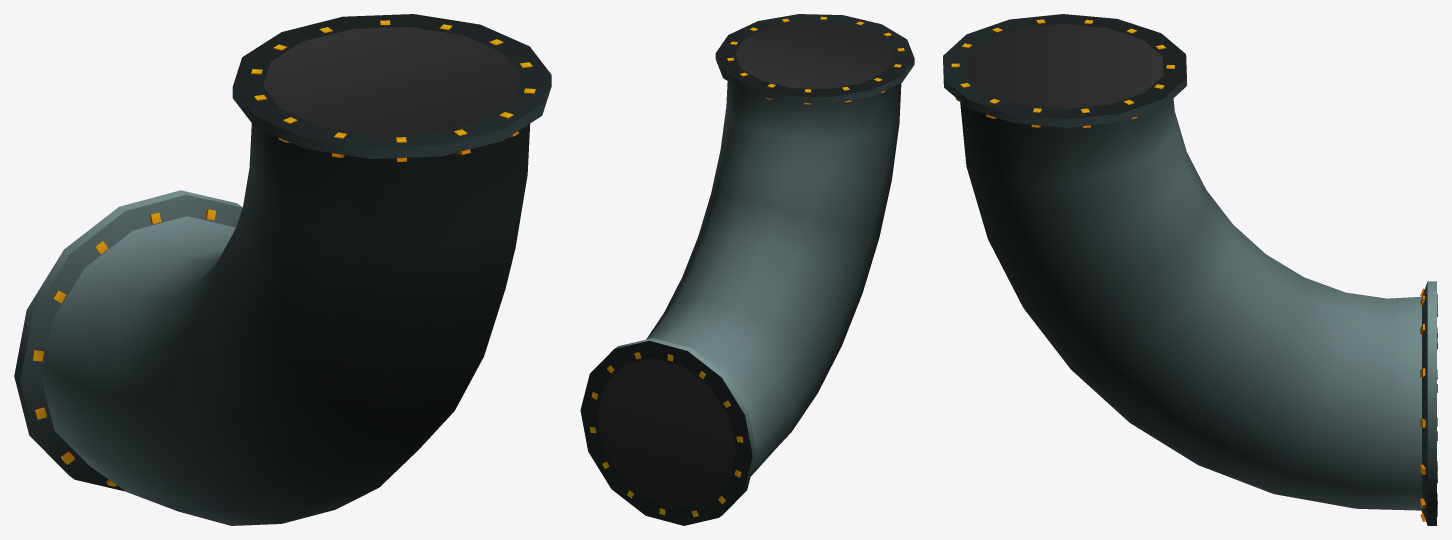
The model's file is Giant_Pipe_2E.fbx.
3 renders of one model, left to right at view 1: azimuth 30°, elevation 25°; view 2: azimuth 150°, elevation 25°; view 3: azimuth 270°, elevation 25°, orthographic. The views are drawn at different scales.
Visible parts, largest first — view 1: Giant_Pipe_2E; view 2: Giant_Pipe_2E; view 3: Giant_Pipe_2E.
Part boxes in pixels (x1=…): Giant_Pipe_2E: x1=14, y1=14, x2=551, y2=525; Giant_Pipe_2E: x1=580, y1=14, x2=914, y2=525; Giant_Pipe_2E: x1=943, y1=14, x2=1437, y2=525.
Bounding box in the file's own units: 2 × 3.97 × 3.97.
